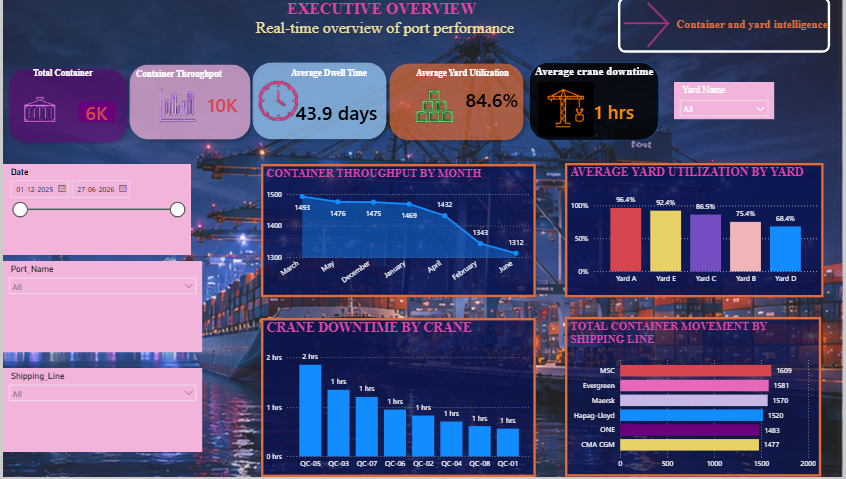

Layout of this report page (visuals, bound fields, positions):
{"tool":"powerbi","page":{"name":"Executive Overview","canvas":[1400,800],"ordinal":0},"visuals":[{"type":"shape","box":[0,110.8,215.4,141.5],"z":0},{"type":"slicer","fields":{"Values":["portpulse_db dim_port.Port_Name"]},"box":[0,440.7,332.3,152.3],"z":1000},{"type":"slicer","fields":{"Values":["portpulse_db dim_ship.Shipping_Line"]},"box":[0,618.6,332.3,140],"z":2000},{"type":"columnChart","title":"CRANE DOWNTIME BY CRANE","fields":{"Category":["portpulse_db fact_crane_operation.Crane_ID"],"Y":["portpulse_db fact_crane_operation.Avg Crane Downtime"]},"box":[430.5,535.6,458.5,264.6],"z":3000},{"type":"lineChart","title":"CONTAINER THROUGHPUT BY MONTH","fields":{"Category":["portpulse_db dim_date.Month_Name"],"Y":["portpulse_db fact_container_movement.Container Throughput"]},"box":[430.5,278,457.6,222],"z":4000},{"type":"columnChart","title":"AVERAGE YARD UTILIZATION BY YARD","fields":{"Y":["portpulse_db fact_yard_utilization.Avg Yard Utilization"],"Category":["portpulse_db fact_yard_utilization.Yard_ID"]},"box":[937.3,276.3,430.5,223.7],"z":5000},{"type":"shape","box":[406.2,100,241.5,146.2],"z":6000},{"type":"shape","box":[201.5,103.1,220,143.1],"z":7000},{"type":"barChart","title":"TOTAL CONTAINER MOVEMENT BY SHIPPING LINE","fields":{"Category":["portpulse_db dim_ship.Shipping_Line"],"Y":["portpulse_db fact_container_movement.Total Container Movements"]},"box":[937.3,533.9,427.1,266.1],"z":8000},{"type":"textbox","box":[44.6,113.8,127.7,40],"z":9000},{"type":"image","box":[15.4,153.8,92.3,69.2],"z":10000},{"type":"cardVisual","fields":{"Data":["portpulse_db fact_container_movement.Total Container Movements"]},"box":[107.7,156.9,96.9,69.2],"z":11000},{"type":"textbox","box":[216.1,114.3,207.1,33.9],"z":12000},{"type":"image","box":[247.7,141.5,81.5,78.5],"z":13000},{"type":"cardVisual","fields":{"Data":["portpulse_db fact_container_movement.Container Throughput"]},"box":[312.3,135.4,110.8,84.6],"z":14000},{"type":"textbox","box":[475.4,113.8,152.3,43.1],"z":15000},{"type":"image","box":[406.2,127.7,104.6,90.8],"z":16000},{"type":"cardVisual","fields":{"Data":["portpulse_db fact_container_movement.Avg Dwell Time"]},"box":[458.5,146.2,209.2,87.7],"z":17000},{"type":"shape","box":[635.4,101.5,241.5,146.2],"z":18000},{"type":"textbox","box":[683.1,113.8,178.5,43.1],"z":19000},{"type":"image","box":[667.7,141.5,101.5,81.5],"z":20000},{"type":"cardVisual","fields":{"Data":["portpulse_db fact_yard_utilization.Avg Yard Utilization"]},"box":[741.5,118.5,153.8,100],"z":21000},{"type":"textbox","box":[288.9,0,668.3,92.1],"z":22000},{"type":"actionButton","box":[1025,0,353.6,92.9],"z":23000},{"type":"shape","box":[876.9,107.7,216.9,130.8],"z":24000},{"type":"textbox","title":"Average crane downtime","box":[881.5,113.8,220,33.8],"z":25000},{"type":"image","box":[887.7,141.5,98.5,90.8],"z":26000},{"type":"cardVisual","fields":{"Data":["portpulse_db fact_crane_operation.Avg Crane Downtime"]},"box":[956.9,147.7,136.9,80],"z":27000},{"type":"slicer","fields":{"Values":["portpulse_db fact_yard_utilization.Yard_ID"]},"box":[1118.2,140.9,166.7,62.1],"z":28000},{"type":"slicer","fields":{"Values":["portpulse_db dim_date.Date_Time"]},"box":[0,278,311.9,150.8],"z":29000}]}

Visuals, with their boxes in screenshot pixels (x1, y1, x2, y2), scaled from the page's 1400x800 canvas onto the 846x479 screenshot:
shape: [0,66,130,151]
slicer - portpulse_db dim_port.Port_Name: [0,264,201,355]
slicer - portpulse_db dim_ship.Shipping_Line: [0,370,201,454]
"CRANE DOWNTIME BY CRANE" columnChart: [260,321,537,478]
"CONTAINER THROUGHPUT BY MONTH" lineChart: [260,166,537,299]
"AVERAGE YARD UTILIZATION BY YARD" columnChart: [566,165,827,299]
shape: [245,60,391,147]
shape: [122,62,255,147]
"TOTAL CONTAINER MOVEMENT BY SHIPPING LINE" barChart: [566,320,824,478]
textbox: [27,68,104,92]
image: [9,92,65,134]
cardVisual - portpulse_db fact_container_movement.Total Container Movements: [65,94,124,135]
textbox: [131,68,256,89]
image: [150,85,199,132]
cardVisual - portpulse_db fact_container_movement.Container Throughput: [189,81,256,132]
textbox: [287,68,379,94]
image: [245,76,309,131]
cardVisual - portpulse_db fact_container_movement.Avg Dwell Time: [277,88,403,140]
shape: [384,61,530,148]
textbox: [413,68,521,94]
image: [403,85,465,134]
cardVisual - portpulse_db fact_yard_utilization.Avg Yard Utilization: [448,71,541,131]
textbox: [175,0,578,55]
actionButton: [619,0,833,56]
shape: [530,64,661,143]
"Average crane downtime" textbox: [533,68,666,88]
image: [536,85,596,139]
cardVisual - portpulse_db fact_crane_operation.Avg Crane Downtime: [578,88,661,136]
slicer - portpulse_db fact_yard_utilization.Yard_ID: [676,84,776,122]
slicer - portpulse_db dim_date.Date_Time: [0,166,188,257]
